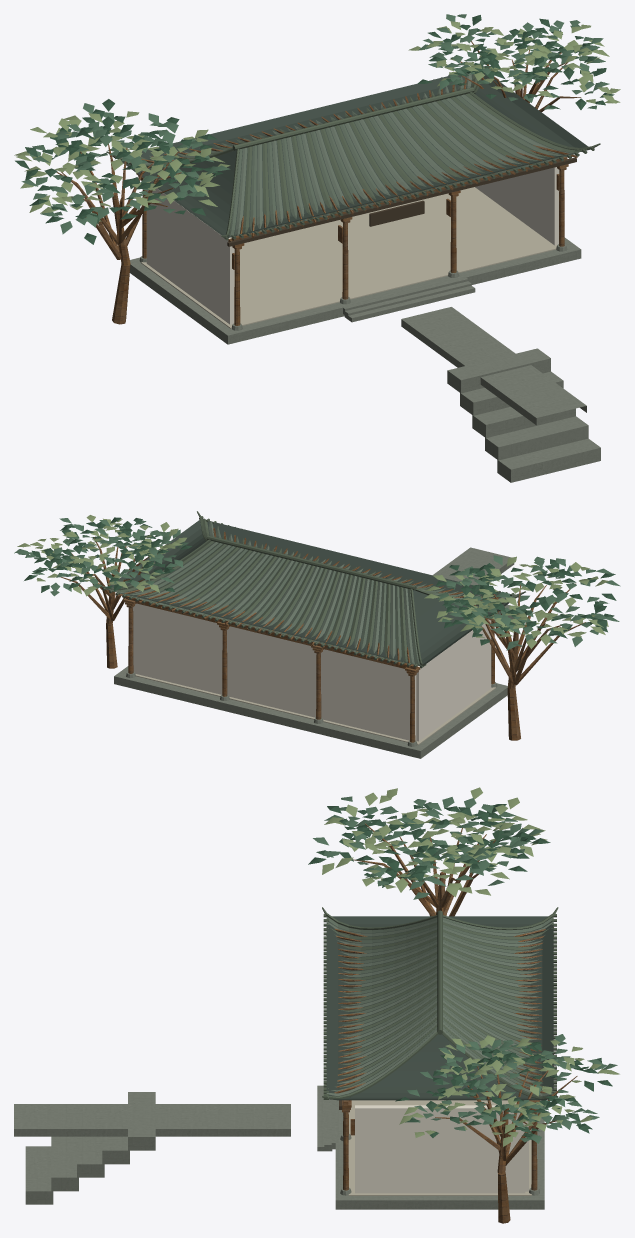
The model's file is tubishanzhuang.glb.
3 views of the same model, one above another, from view 1: azimuth 30°, elevation 25°; view 2: azimuth 150°, elevation 25°; view 3: azimuth 270°, elevation 25° (orthographic). The views are drawn at different scales.
Parts seen in each view (by area): view 1: tubishanzhuang_stone, tubishanzhuang_paving, tubishanzhuang_roof, tubishanzhuang_tiledark, tubishanzhuang_plaster, tubishanzhuang_wood, tubishanzhuang_tilelight, tubishanzhuang_lightleaf, tubishanzhuang_leaf, tubishanzhuang_tile, tubishanzhuang_leafdark, tubishanzhuang_darkwood; view 2: tubishanzhuang_plaster, tubishanzhuang_roof, tubishanzhuang_tiledark, tubishanzhuang_wood, tubishanzhuang_stone, tubishanzhuang_tilelight, tubishanzhuang_leaf, tubishanzhuang_tile, tubishanzhuang_lightleaf, tubishanzhuang_leafdark, tubishanzhuang_paving; view 3: tubishanzhuang_stone, tubishanzhuang_roof, tubishanzhuang_plaster, tubishanzhuang_tiledark, tubishanzhuang_tilelight, tubishanzhuang_tile, tubishanzhuang_lightleaf, tubishanzhuang_leaf, tubishanzhuang_wood, tubishanzhuang_leafdark, tubishanzhuang_paving.
Boxes of the visible parts, bbox=[...] form: tubishanzhuang_stone: bbox=[130, 237, 600, 482]; tubishanzhuang_paving: bbox=[141, 187, 556, 328]; tubishanzhuang_roof: bbox=[117, 73, 590, 237]; tubishanzhuang_tiledark: bbox=[106, 69, 600, 240]; tubishanzhuang_plaster: bbox=[146, 167, 559, 324]; tubishanzhuang_wood: bbox=[56, 41, 581, 325]; tubishanzhuang_tilelight: bbox=[133, 70, 582, 235]; tubishanzhuang_lightleaf: bbox=[14, 21, 620, 221]; tubishanzhuang_leaf: bbox=[21, 14, 609, 234]; tubishanzhuang_tile: bbox=[122, 76, 573, 236]; tubishanzhuang_leafdark: bbox=[15, 15, 614, 244]; tubishanzhuang_darkwood: bbox=[227, 157, 576, 246]; tubishanzhuang_plaster: bbox=[133, 603, 491, 741]; tubishanzhuang_roof: bbox=[106, 520, 516, 665]; tubishanzhuang_tiledark: bbox=[100, 511, 525, 668]; tubishanzhuang_wood: bbox=[56, 528, 585, 742]; tubishanzhuang_stone: bbox=[114, 547, 514, 758]; tubishanzhuang_tilelight: bbox=[113, 521, 509, 664]; tubishanzhuang_leaf: bbox=[14, 518, 620, 650]; tubishanzhuang_tile: bbox=[120, 526, 515, 665]; tubishanzhuang_lightleaf: bbox=[17, 515, 608, 648]; tubishanzhuang_leafdark: bbox=[24, 517, 616, 645]; tubishanzhuang_paving: bbox=[135, 674, 495, 744]; tubishanzhuang_stone: bbox=[14, 1084, 544, 1209]; tubishanzhuang_roof: bbox=[326, 916, 553, 1100]; tubishanzhuang_plaster: bbox=[355, 1105, 528, 1193]; tubishanzhuang_tiledark: bbox=[322, 907, 558, 1099]; tubishanzhuang_tilelight: bbox=[326, 920, 553, 1095]; tubishanzhuang_tile: bbox=[326, 916, 553, 1091]; tubishanzhuang_lightleaf: bbox=[322, 787, 619, 1146]; tubishanzhuang_leaf: bbox=[313, 796, 617, 1143]; tubishanzhuang_wood: bbox=[326, 823, 577, 1223]; tubishanzhuang_leafdark: bbox=[308, 802, 612, 1140]; tubishanzhuang_paving: bbox=[348, 1100, 531, 1195].
Bounding box in the file's own units: 34.52 × 12.77 × 28.48.
Materials: 12 (2 with a texture image).
